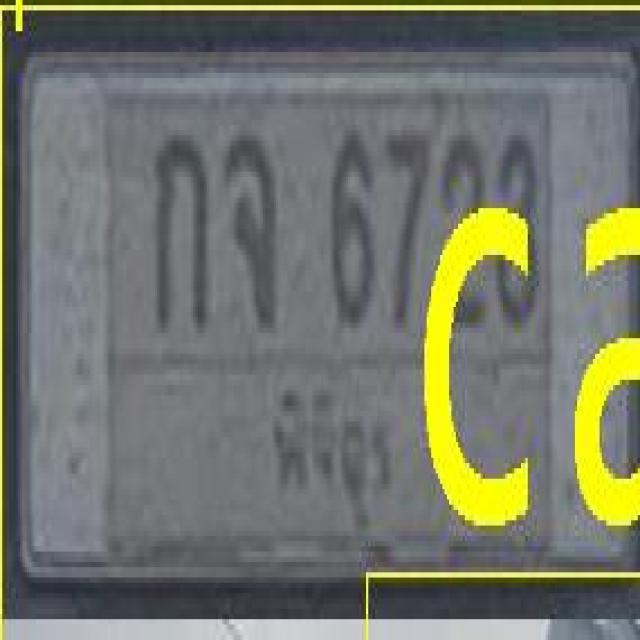license_plate: (15, 44, 640, 595)
